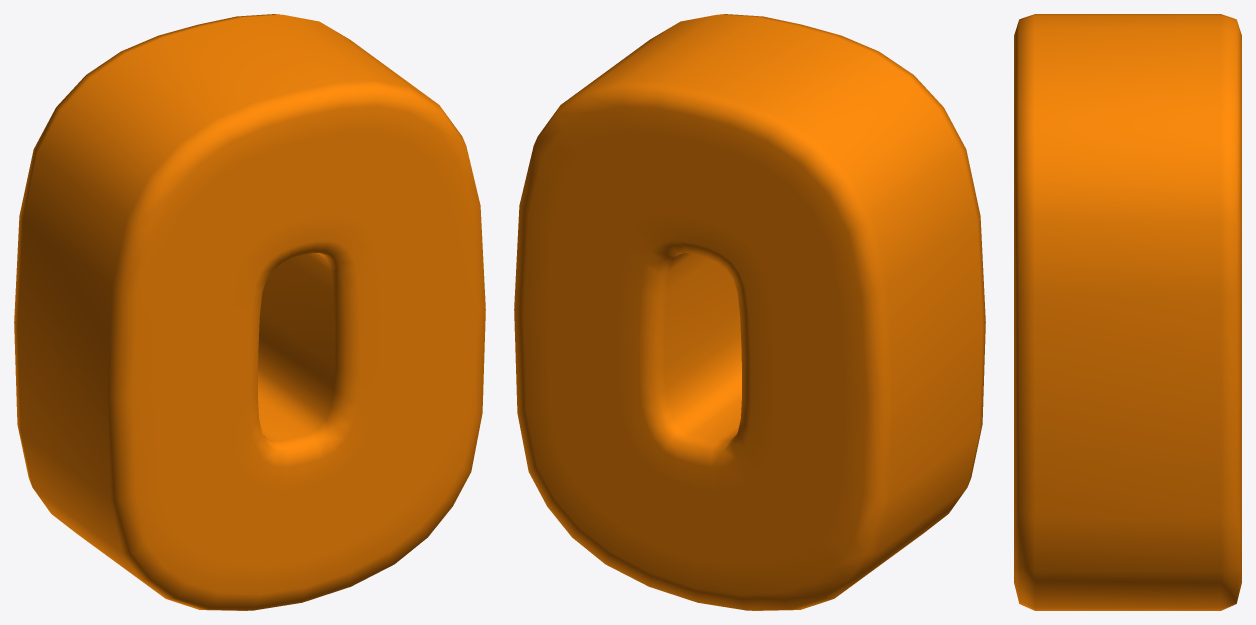
3 renders of one model, left to right at view 1: azimuth 30°, elevation 25°; view 2: azimuth 150°, elevation 25°; view 3: azimuth 270°, elevation 25°, orthographic. The views are drawn at different scales.
Parts seen in each view (by area): view 1: LETTER_O; view 2: LETTER_O; view 3: LETTER_O.
Boxes of the visible parts, x1,y1,x2,y2 form: LETTER_O: [14, 14, 485, 610]; LETTER_O: [514, 14, 985, 610]; LETTER_O: [1014, 14, 1241, 610].
Size of the model in its own units: 0.7677 by 1 by 0.3884.
